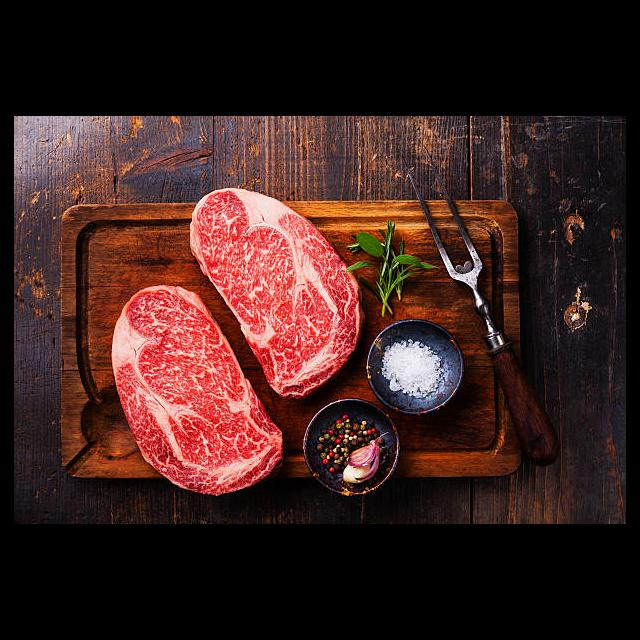beef: (109, 284, 282, 498), (191, 189, 364, 401)
